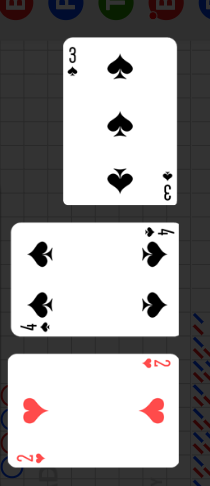2H: (16, 451, 47, 464)
3S: (66, 45, 80, 79)
4S: (143, 226, 176, 239)
